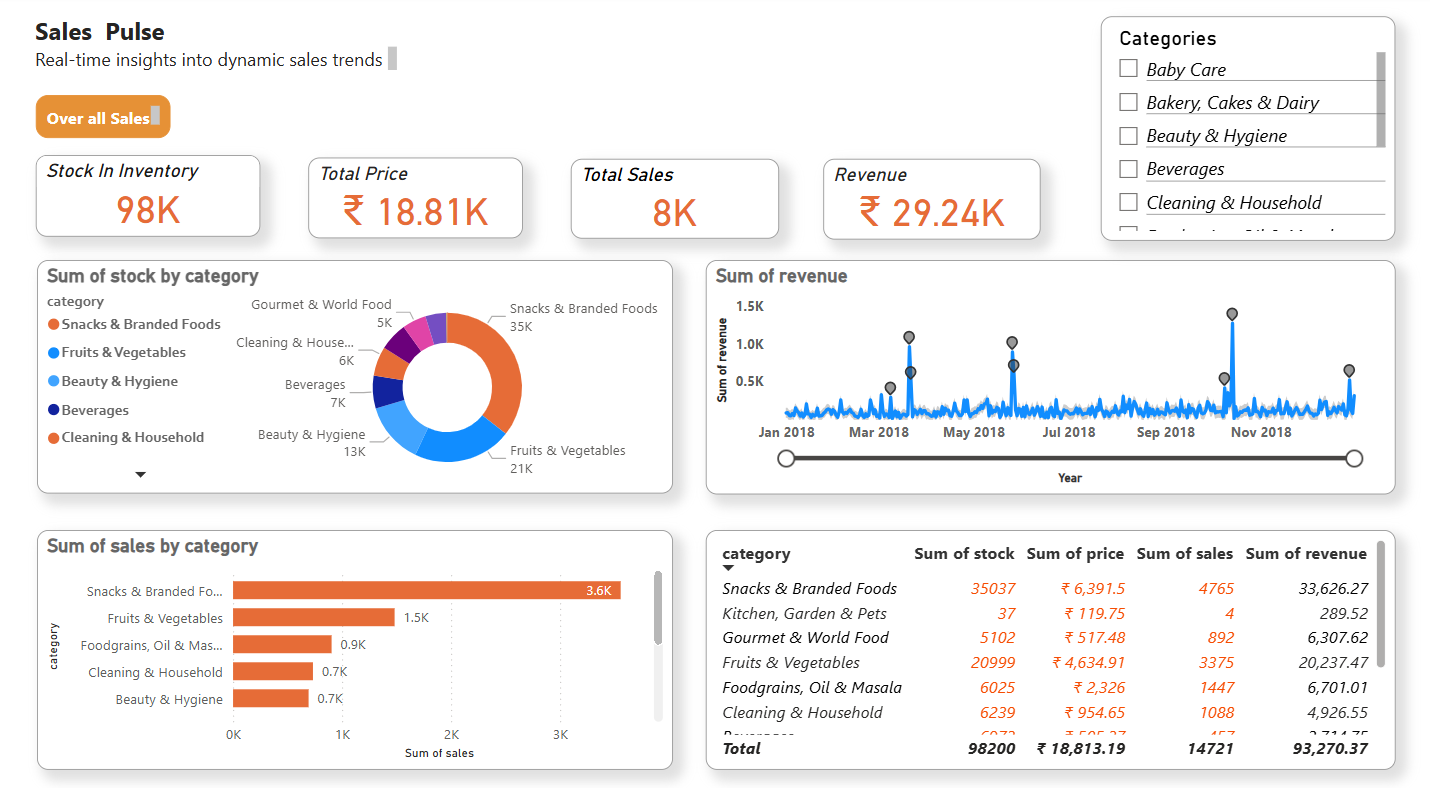

The page's visual inventory and layout, read from the dashboard file:
{"tool":"powerbi","page":{"name":"Sales Dashboard","canvas":[1280,720],"ordinal":0},"visuals":[{"type":"card","title":"Stock In Inventory","fields":{"Values":["Sum(sales2017.stock)"]},"box":[34,142,200,73],"z":0},{"type":"card","title":"Total Price","fields":{"Values":["Sum(sales2017.price)"]},"box":[277.3,144.8,191.4,72.4],"z":1000},{"type":"card","title":"Total Sales","fields":{"Values":["Sum(sales2019.sales)"]},"box":[510.4,146,185.3,71.2],"z":2000},{"type":"card","title":"Revenue","fields":{"Values":["Sum(sales2017.revenue)"]},"box":[736.2,146,193.9,72.4],"z":3000},{"type":"textbox","box":[29,12,167,45],"z":4000},{"type":"textbox","box":[29.4,41.7,331.3,31.9],"z":5000},{"type":"textbox","box":[34.4,89.6,120.2,38],"z":6000},{"type":"lineChart","title":"Sum of revenue","fields":{"Y":["Sum(sales2018.revenue)"],"Category":["sales2018.order_date.Variation.Date Hierarchy.Year","sales2018.order_date.Variation.Date Hierarchy.Quarter","sales2018.order_date.Variation.Date Hierarchy.Month","sales2018.order_date.Variation.Date Hierarchy.Day"]},"box":[630.7,235.6,614.7,208.6],"z":7000},{"type":"clusteredBarChart","fields":{"Category":["product hierarchy.category"],"Y":["Sum(sales2018.sales)"]},"box":[35.6,476.4,566.6,213.7],"z":8000},{"type":"donutChart","fields":{"Category":["product hierarchy.category"],"Y":["Sum(sales2017.stock)"]},"box":[35.6,236,566.6,208.2],"z":9000},{"type":"slicer","fields":{"Values":["store_cities.city"]},"box":[983.1,18,261.8,200],"z":10000},{"type":"tableEx","fields":{"Values":["product hierarchy.category","Sum(sales2017.stock)","Sum(sales2017.price)","Sum(sales2019.sales)","Sum(sales2019.revenue)"]},"box":[630.7,476.1,614.7,213.5],"z":11000}]}

Visuals, with their boxes in screenshot pixels (x1, y1, x2, y2), scaled from the page's 1280x720 canvas onto the 1430x788 screenshot:
"Stock In Inventory" card: pyautogui.locateOnScreen(38, 155, 261, 235)
"Total Price" card: pyautogui.locateOnScreen(310, 158, 524, 238)
"Total Sales" card: pyautogui.locateOnScreen(570, 160, 777, 238)
"Revenue" card: pyautogui.locateOnScreen(822, 160, 1039, 239)
textbox: pyautogui.locateOnScreen(32, 13, 219, 62)
textbox: pyautogui.locateOnScreen(33, 46, 403, 81)
textbox: pyautogui.locateOnScreen(38, 98, 173, 140)
"Sum of revenue" lineChart: pyautogui.locateOnScreen(705, 258, 1391, 486)
clusteredBarChart - product hierarchy.category x Sum(sales2018.sales): pyautogui.locateOnScreen(40, 521, 673, 755)
donutChart - product hierarchy.category x Sum(sales2017.stock): pyautogui.locateOnScreen(40, 258, 673, 486)
slicer - store_cities.city: pyautogui.locateOnScreen(1098, 20, 1391, 239)
tableEx - product hierarchy.category x Sum(sales2017.stock): pyautogui.locateOnScreen(705, 521, 1391, 755)
